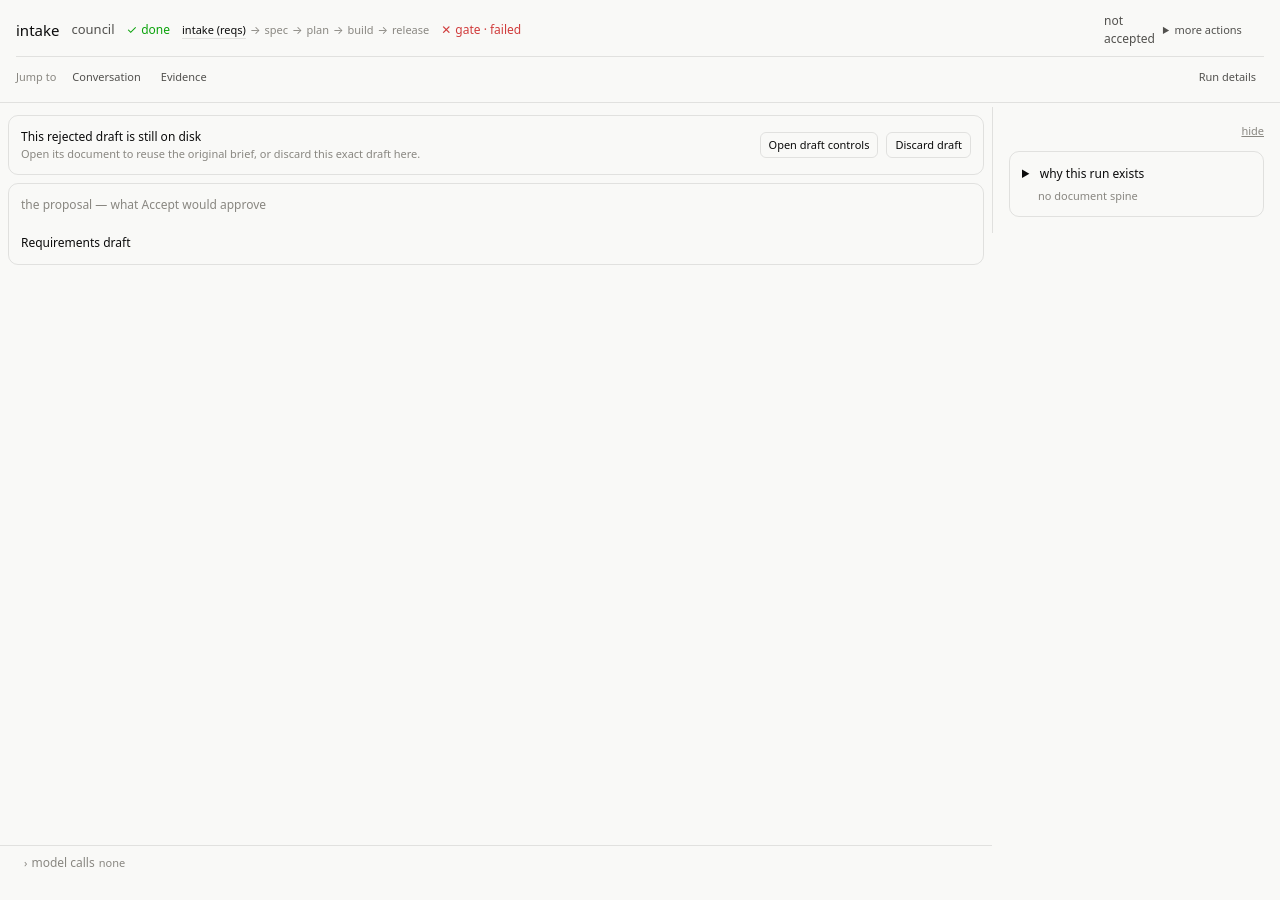
RunView rejected stage draft › reveals the surviving draft and offers its lawful doors from the producing run
Expected: the element with test id "run-rejected-draft" shows "This rejected draft is still on disk", [21,128,201,144]
Click the button with test id "run-discard-draft": (929, 145) [886,132,971,158]
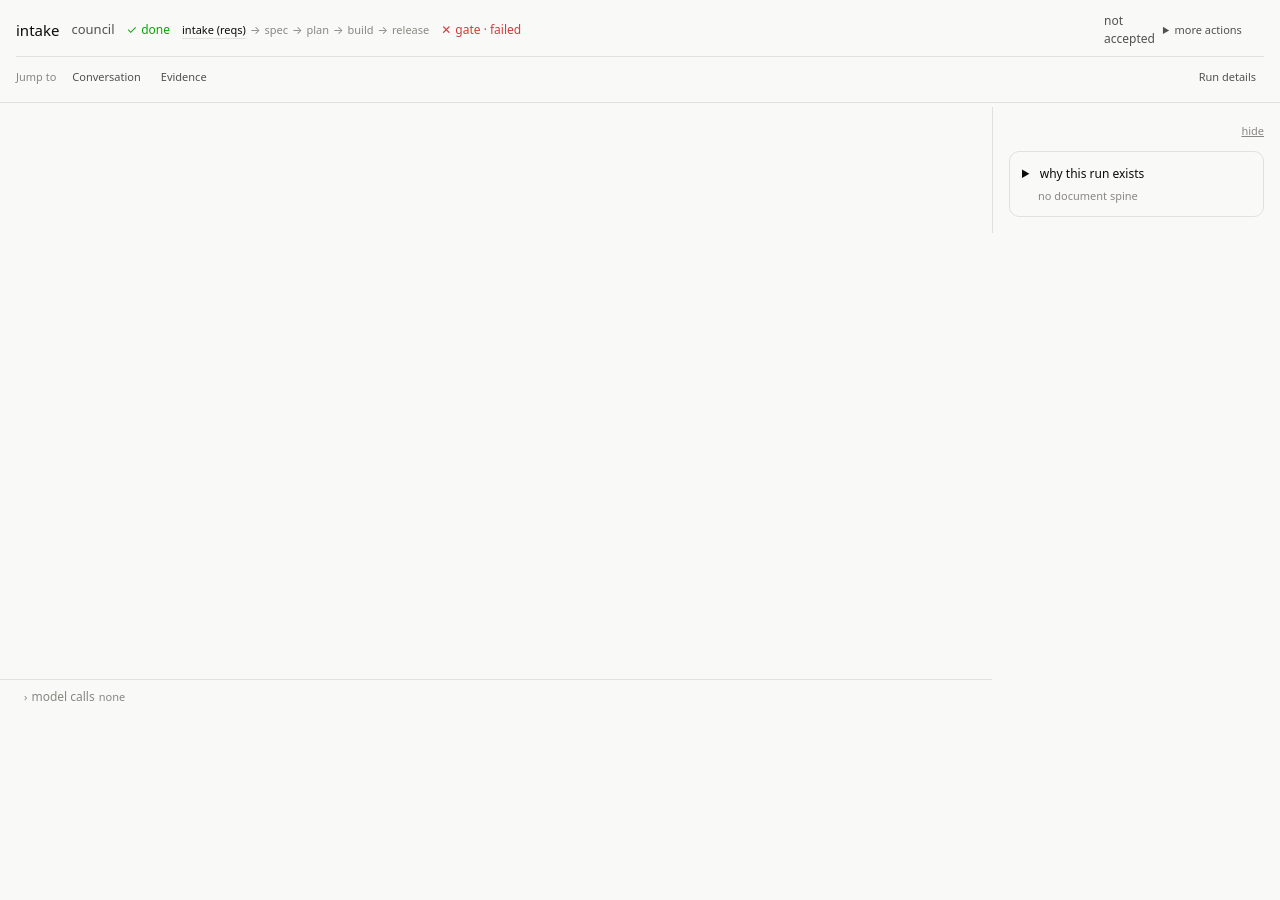
Expected: the element with test id "run-rejected-draft" is gone
